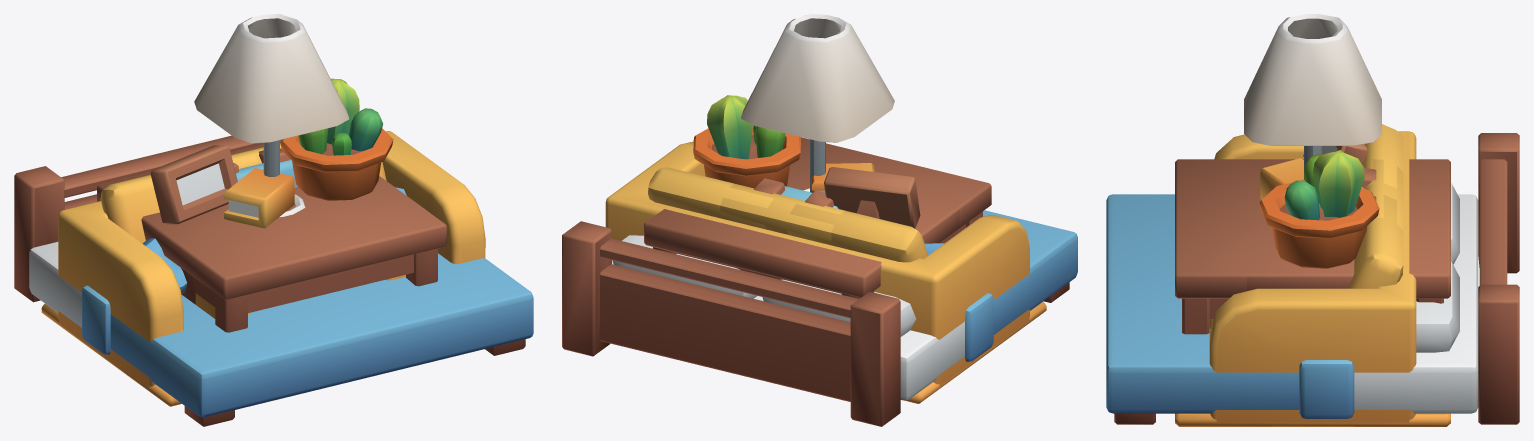
The model's file is kk-furniture.glb.
3 views of the same model, side by side, from view 1: azimuth 30°, elevation 25°; view 2: azimuth 150°, elevation 25°; view 3: azimuth 270°, elevation 25° (orthographic). The views are drawn at different scales.
Visible parts, largest first — view 1: bed_double_A, table_medium, couch_pillows, cabinet_medium_decorated, lamp_standing, armchair_pillows, rug_rectangle_stripes_A, chair_B; view 2: bed_double_A, couch_pillows, table_medium, lamp_standing, cabinet_medium_decorated, armchair_pillows, rug_rectangle_stripes_A, chair_A, chair_B; view 3: bed_double_A, couch_pillows, table_medium, lamp_standing, cabinet_medium_decorated, rug_rectangle_stripes_A, armchair_pillows, rug_oval_A.
Part boxes in pixels (bbox=[...]): bed_double_A: bbox=[14, 135, 533, 426]; table_medium: bbox=[97, 139, 446, 332]; couch_pillows: bbox=[58, 131, 485, 388]; cabinet_medium_decorated: bbox=[144, 78, 393, 304]; lamp_standing: bbox=[194, 14, 349, 176]; armchair_pillows: bbox=[195, 144, 405, 318]; rug_rectangle_stripes_A: bbox=[41, 303, 181, 406]; chair_B: bbox=[228, 148, 297, 204]; bed_double_A: bbox=[562, 210, 1077, 426]; couch_pillows: bbox=[605, 141, 1029, 385]; table_medium: bbox=[644, 137, 991, 298]; lamp_standing: bbox=[741, 14, 894, 192]; cabinet_medium_decorated: bbox=[693, 95, 959, 243]; armchair_pillows: bbox=[720, 183, 844, 240]; rug_rectangle_stripes_A: bbox=[904, 302, 1046, 403]; chair_A: bbox=[754, 178, 834, 207]; chair_B: bbox=[754, 179, 838, 208]; bed_double_A: bbox=[1106, 133, 1519, 424]; couch_pillows: bbox=[1209, 124, 1416, 422]; table_medium: bbox=[1175, 159, 1450, 334]; lamp_standing: bbox=[1244, 14, 1381, 179]; cabinet_medium_decorated: bbox=[1247, 144, 1379, 290]; rug_rectangle_stripes_A: bbox=[1175, 413, 1450, 426]; armchair_pillows: bbox=[1209, 159, 1403, 329]; rug_oval_A: bbox=[1271, 422, 1354, 426].
Size of the model in its own units: 3.1 by 2.77 by 3.
1 material, 1 textured.
